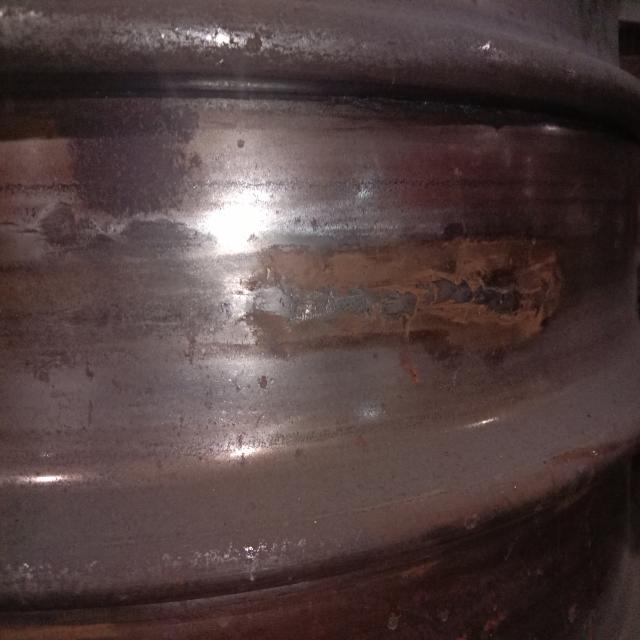flat: (141, 251, 549, 347)
